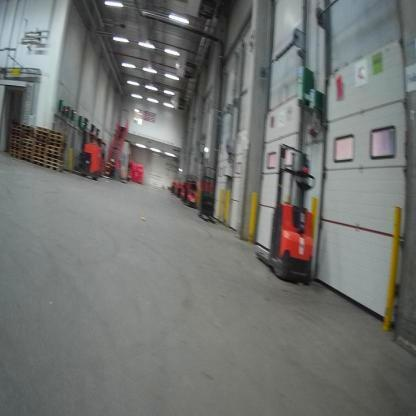pallets: (5, 116, 72, 178)
